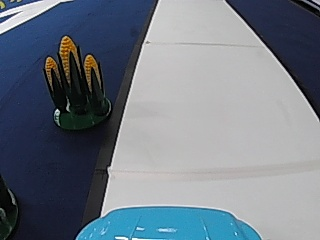corn: (40, 31, 115, 130)
